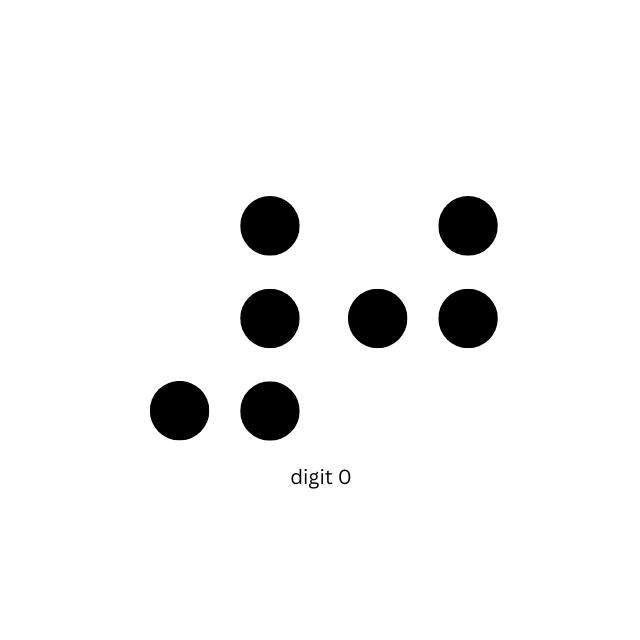digit_0: (347, 194, 499, 442)
number_sign: (148, 194, 301, 443)
